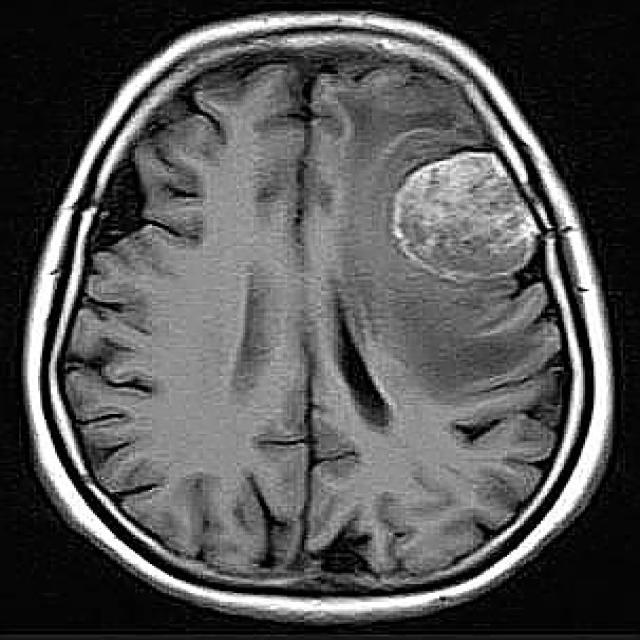Tumor-Cell: (383, 153, 544, 284)
